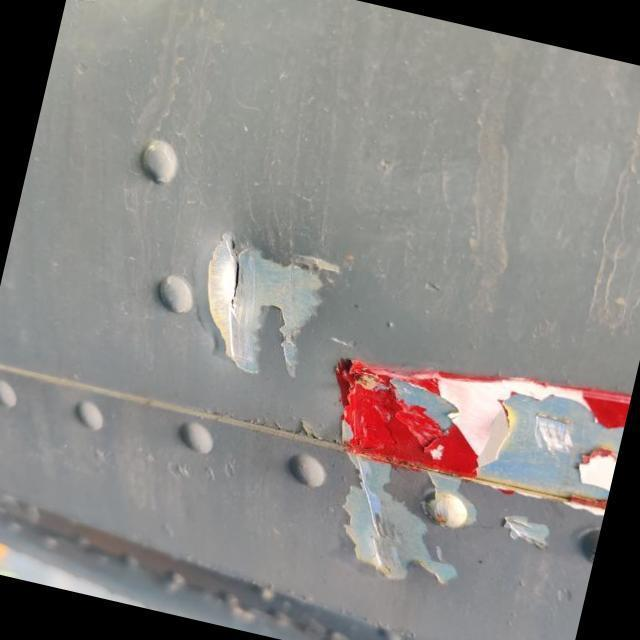Rupture: (191, 226, 274, 332)
